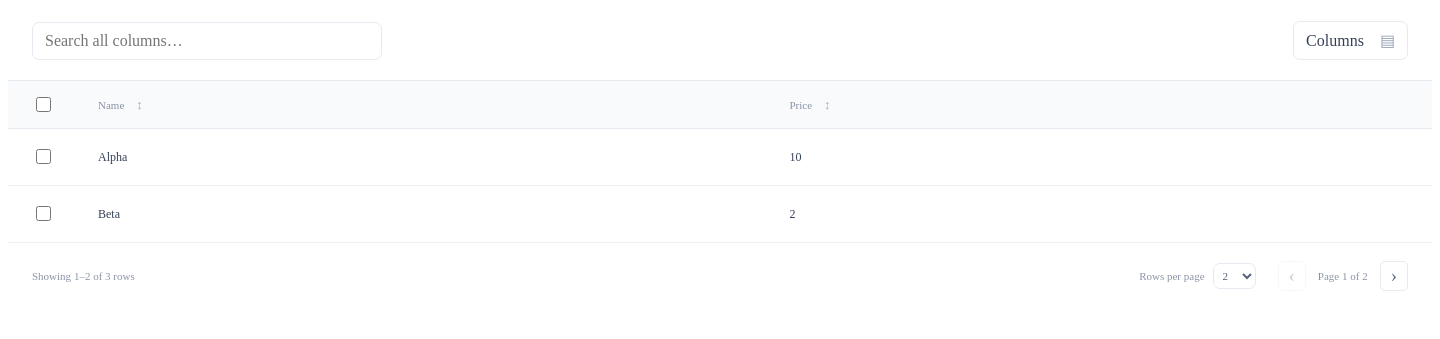
resets pagination when searching and reports a real empty state
This screenshot has width=1440, height=339.
Click the button named "Next page" at x=1394, y=276, box [1380, 261, 1408, 291]
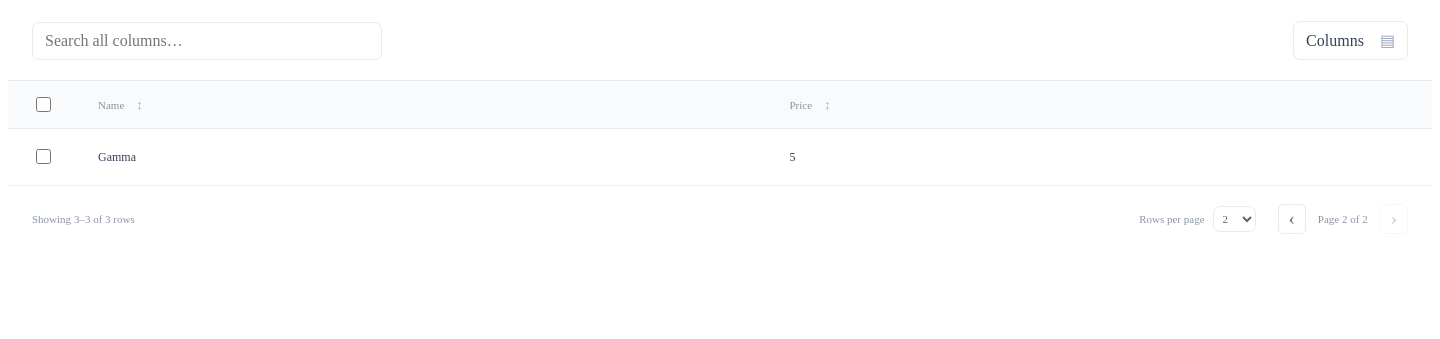
Type "Beta" into the search field at x=207, y=40, box [32, 22, 382, 60]
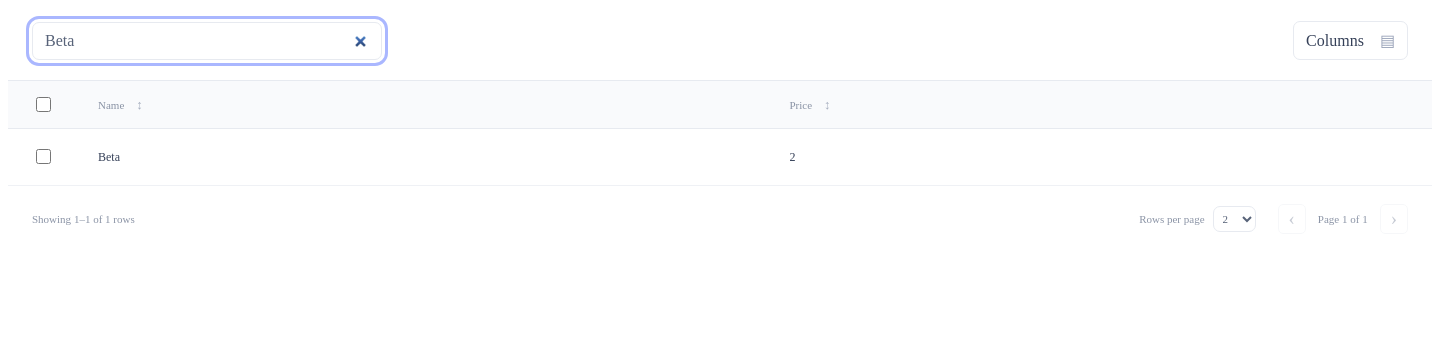
Check: the text "Page 1 of 1" is shown, box [1318, 213, 1368, 225]
Check: the text "Beta" is shown, box [82, 129, 774, 186]
Type "missing" into the search field at x=207, y=40, box [32, 22, 382, 60]
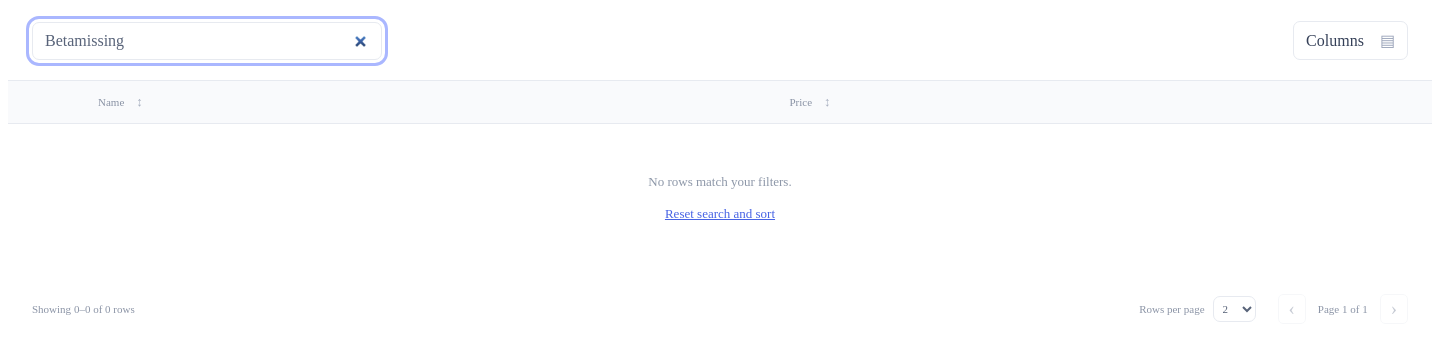
Check: the text "No rows match your filters." is shown, box [648, 174, 792, 189]
Check: the text "Showing 0–0 of 0 rows" is shown, box [32, 303, 135, 315]
